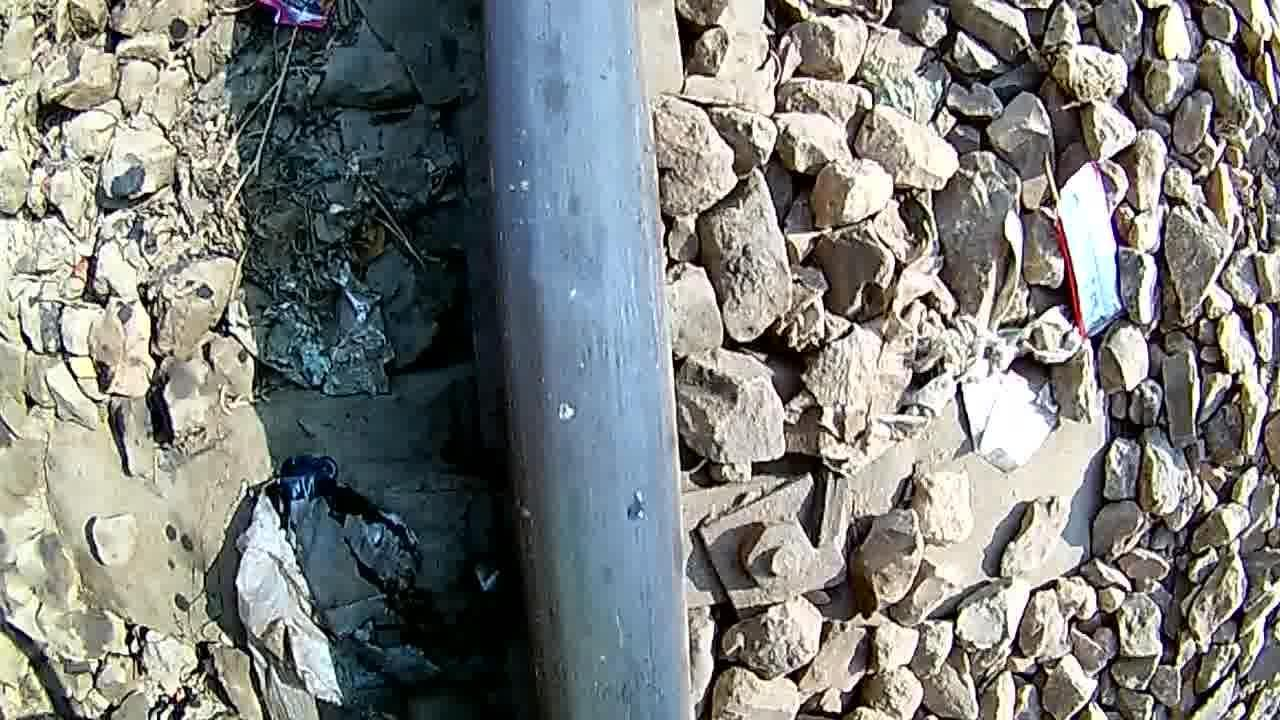crack: (508, 18, 628, 428)
